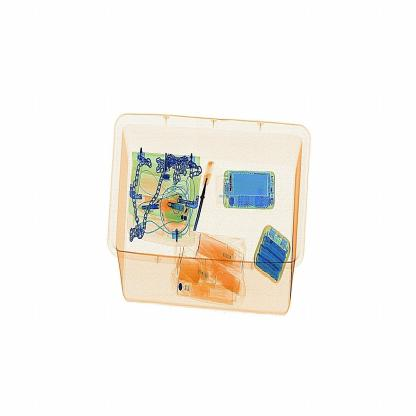gun: (190, 143, 220, 234)
